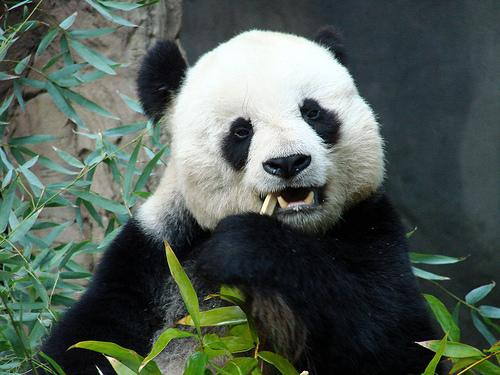panda: (41, 27, 437, 374)
